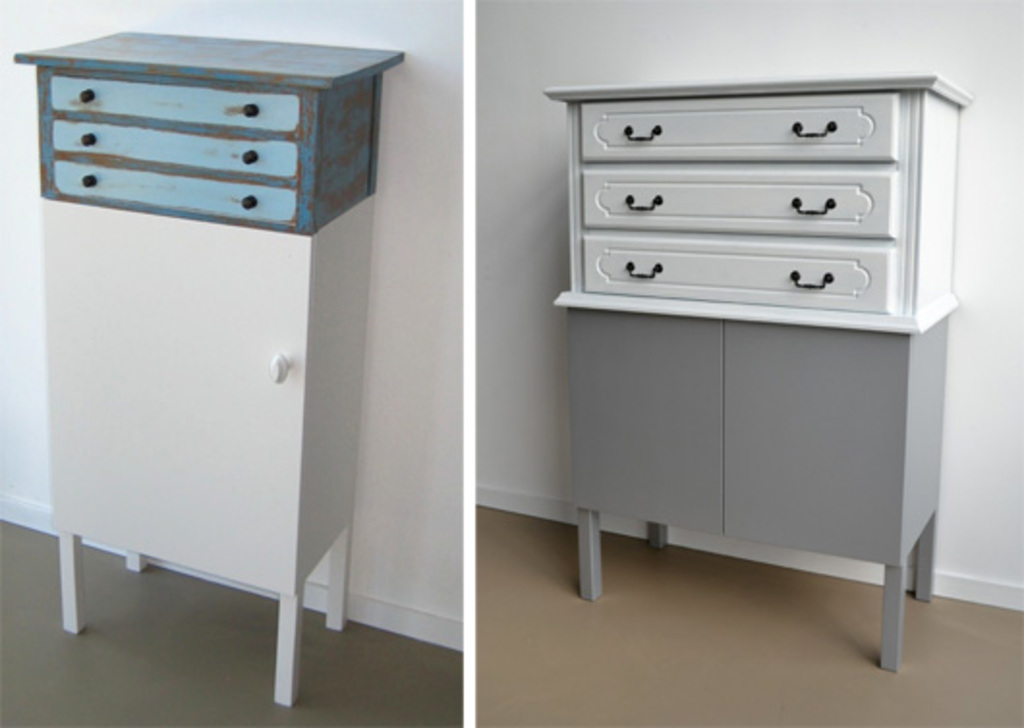cabinet door: (46, 198, 296, 558), (729, 332, 897, 550), (575, 311, 727, 516), (594, 233, 887, 310), (593, 174, 884, 235), (66, 78, 284, 138), (73, 160, 278, 221), (611, 116, 879, 158), (68, 122, 278, 173)
handle: (790, 117, 847, 145), (782, 194, 834, 224), (786, 274, 834, 295), (622, 261, 669, 282), (619, 123, 658, 144), (273, 352, 297, 386), (231, 187, 259, 211), (621, 199, 659, 216), (236, 151, 264, 173), (235, 100, 259, 124), (77, 126, 98, 149), (77, 171, 100, 191), (78, 78, 94, 104)
